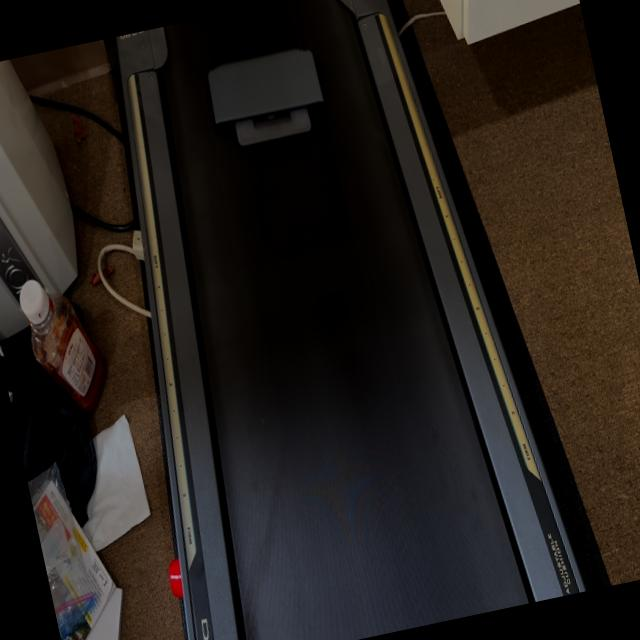Trash: (200, 46, 334, 158)
